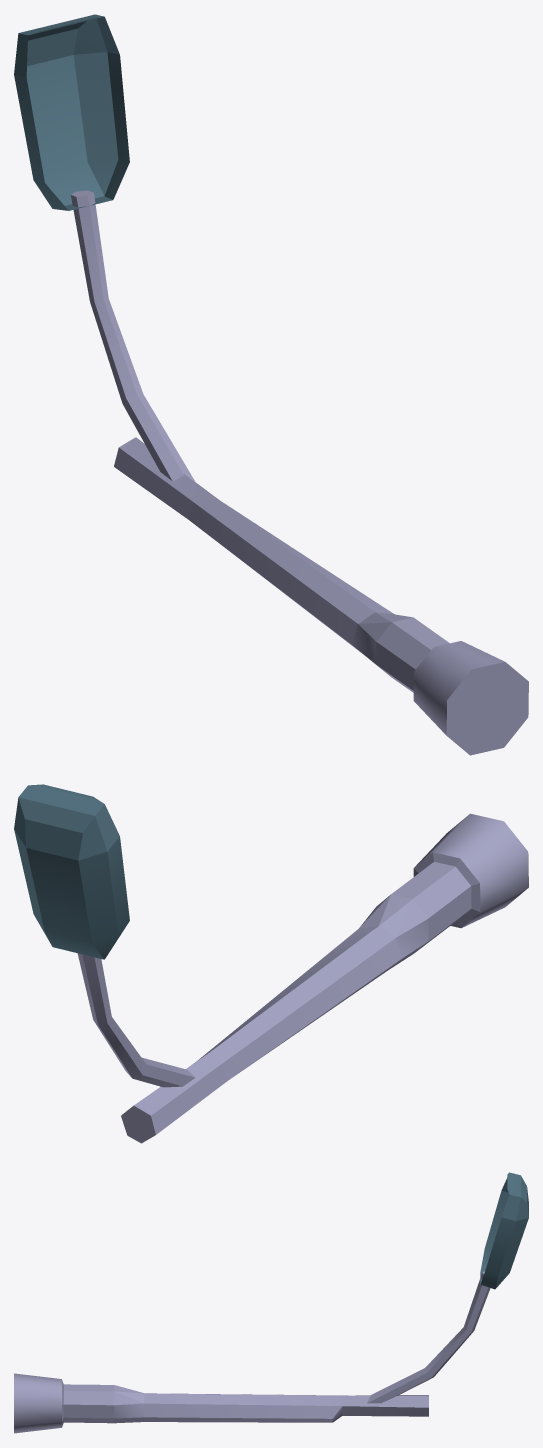
The model's file is Deng1_Mo.fbx.
The picture shows the model from 3 angles, top to bottom: view 1: azimuth 30°, elevation 25°; view 2: azimuth 150°, elevation 25°; view 3: azimuth 270°, elevation 25°; orthographic projection. The views are drawn at different scales.
Parts seen in each view (by area): view 1: Lv4_roadlight_0; view 2: Lv4_roadlight_0; view 3: Lv4_roadlight_0.
Boxes of the visible parts, x1,y1,x2,y2 form: Lv4_roadlight_0: (14,14,528,755); Lv4_roadlight_0: (14,784,528,1143); Lv4_roadlight_0: (14,1172,528,1433).
Bounding box in the file's own units: 131 × 565 × 1067.
